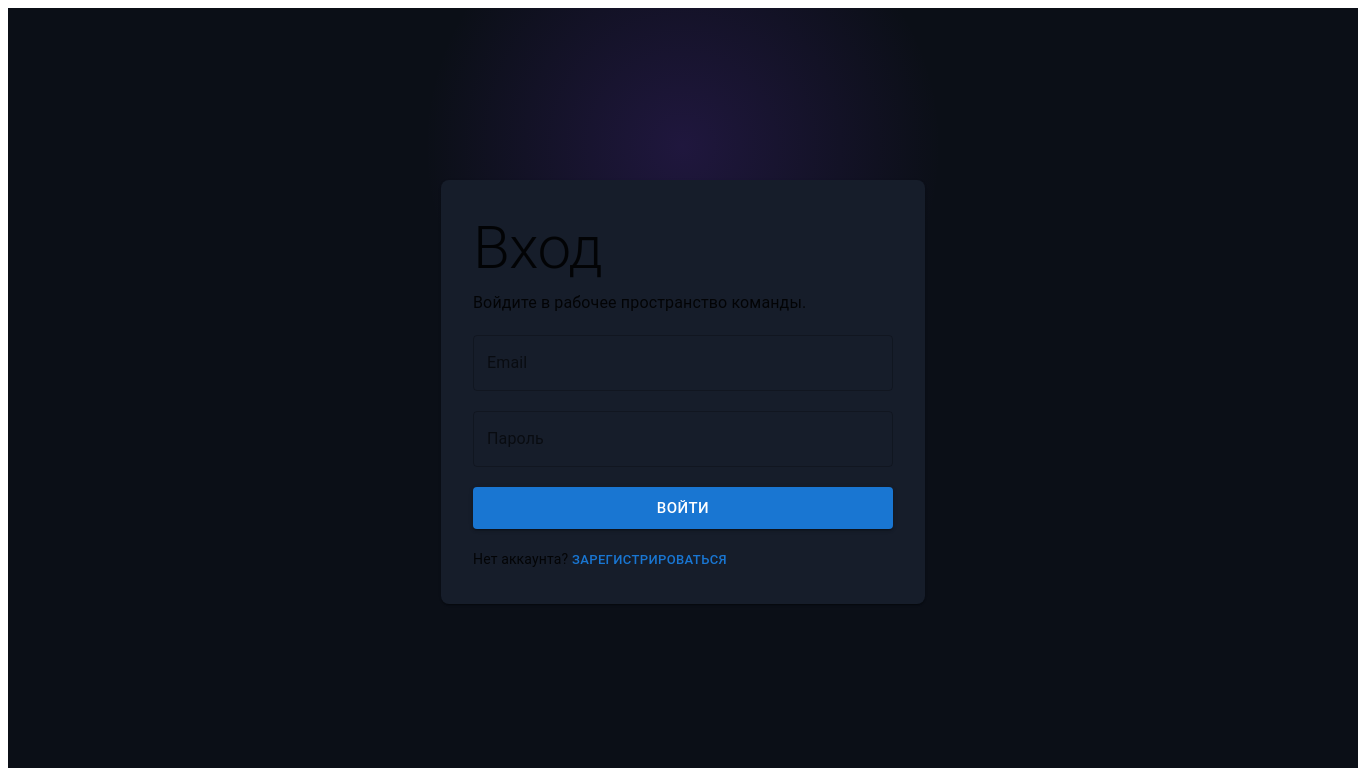
Scenario: LoginPage › shows validation feedback for an invalid email
Type "not-email" into the field labelled "Email".
click(683, 363); type("not-email")  # box 473,335 -> 893,391
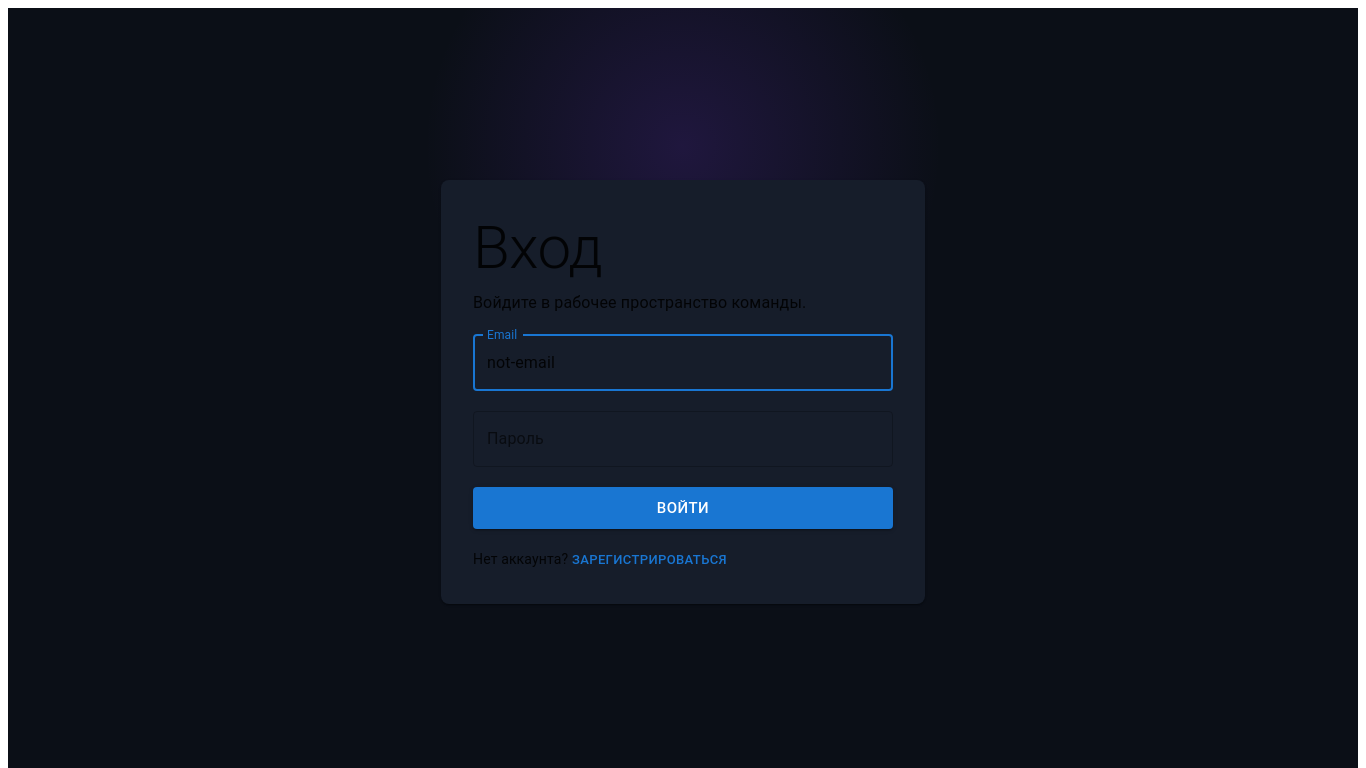
Type "password123" into the password field labelled "Пароль".
click(683, 439); type("password123")  # box 473,411 -> 893,467
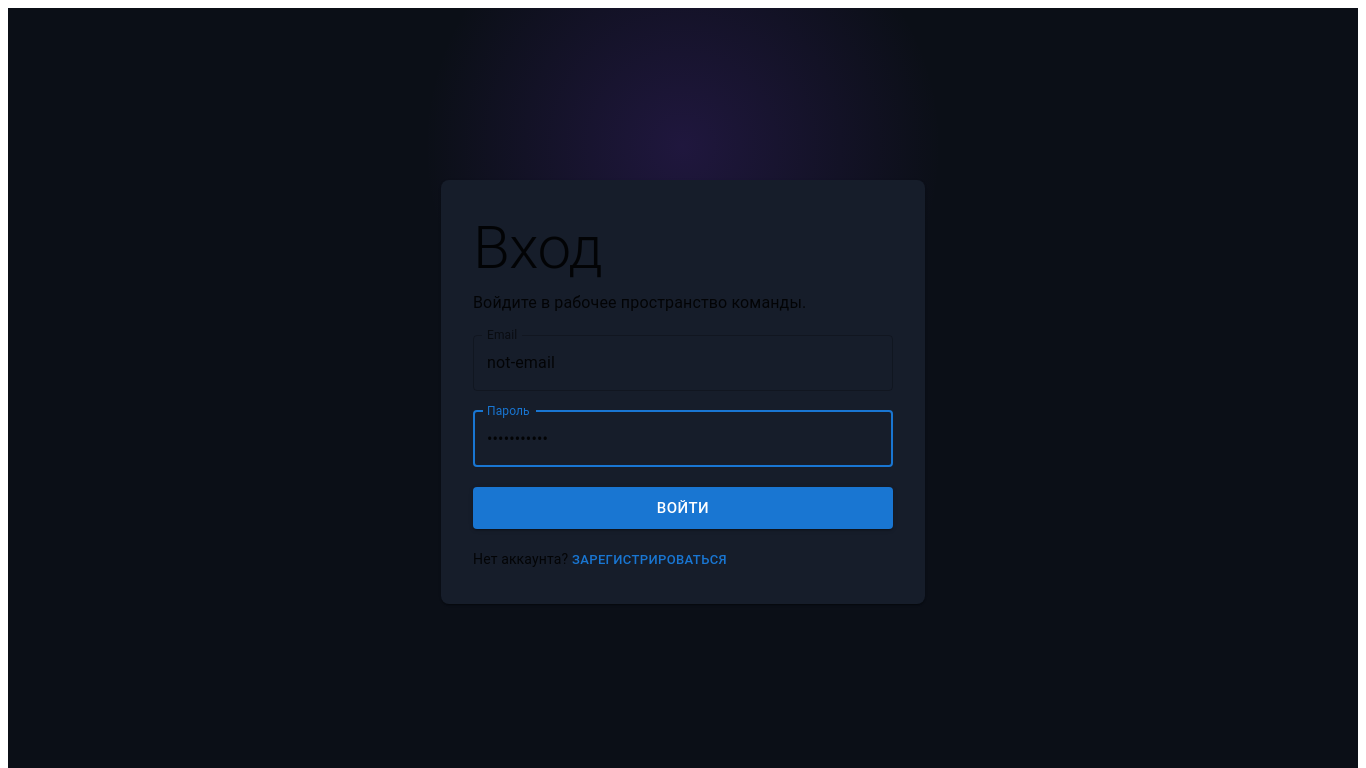
Click the button "Войти".
click(683, 508)  # box 473,487 -> 893,529
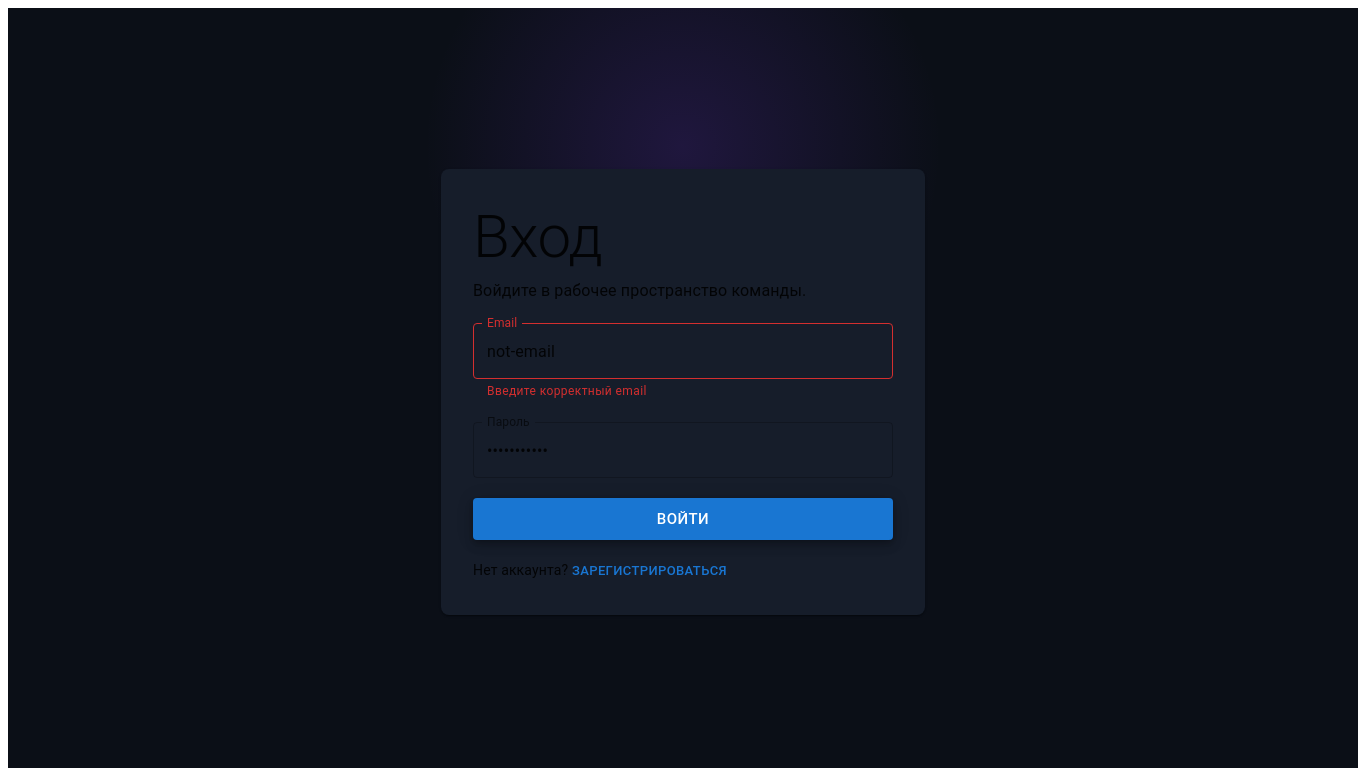
Expected: the text "Введите корректный email" is shown, 487,384 -> 647,398
